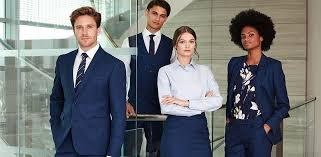F_M_suit jacket: (52, 46, 129, 157)
F_W_suit jacket: (225, 57, 290, 134)
F_shirt: (116, 31, 175, 112), (154, 58, 222, 115)
F_tailored skirt: (162, 113, 211, 157)
F_tie: (72, 49, 89, 93), (144, 29, 158, 58)
